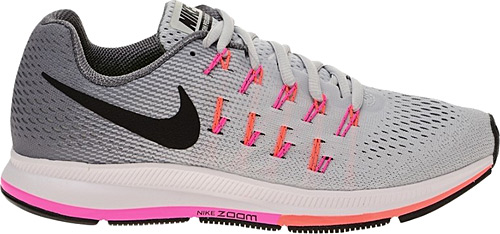nike: (41, 69, 203, 152)
